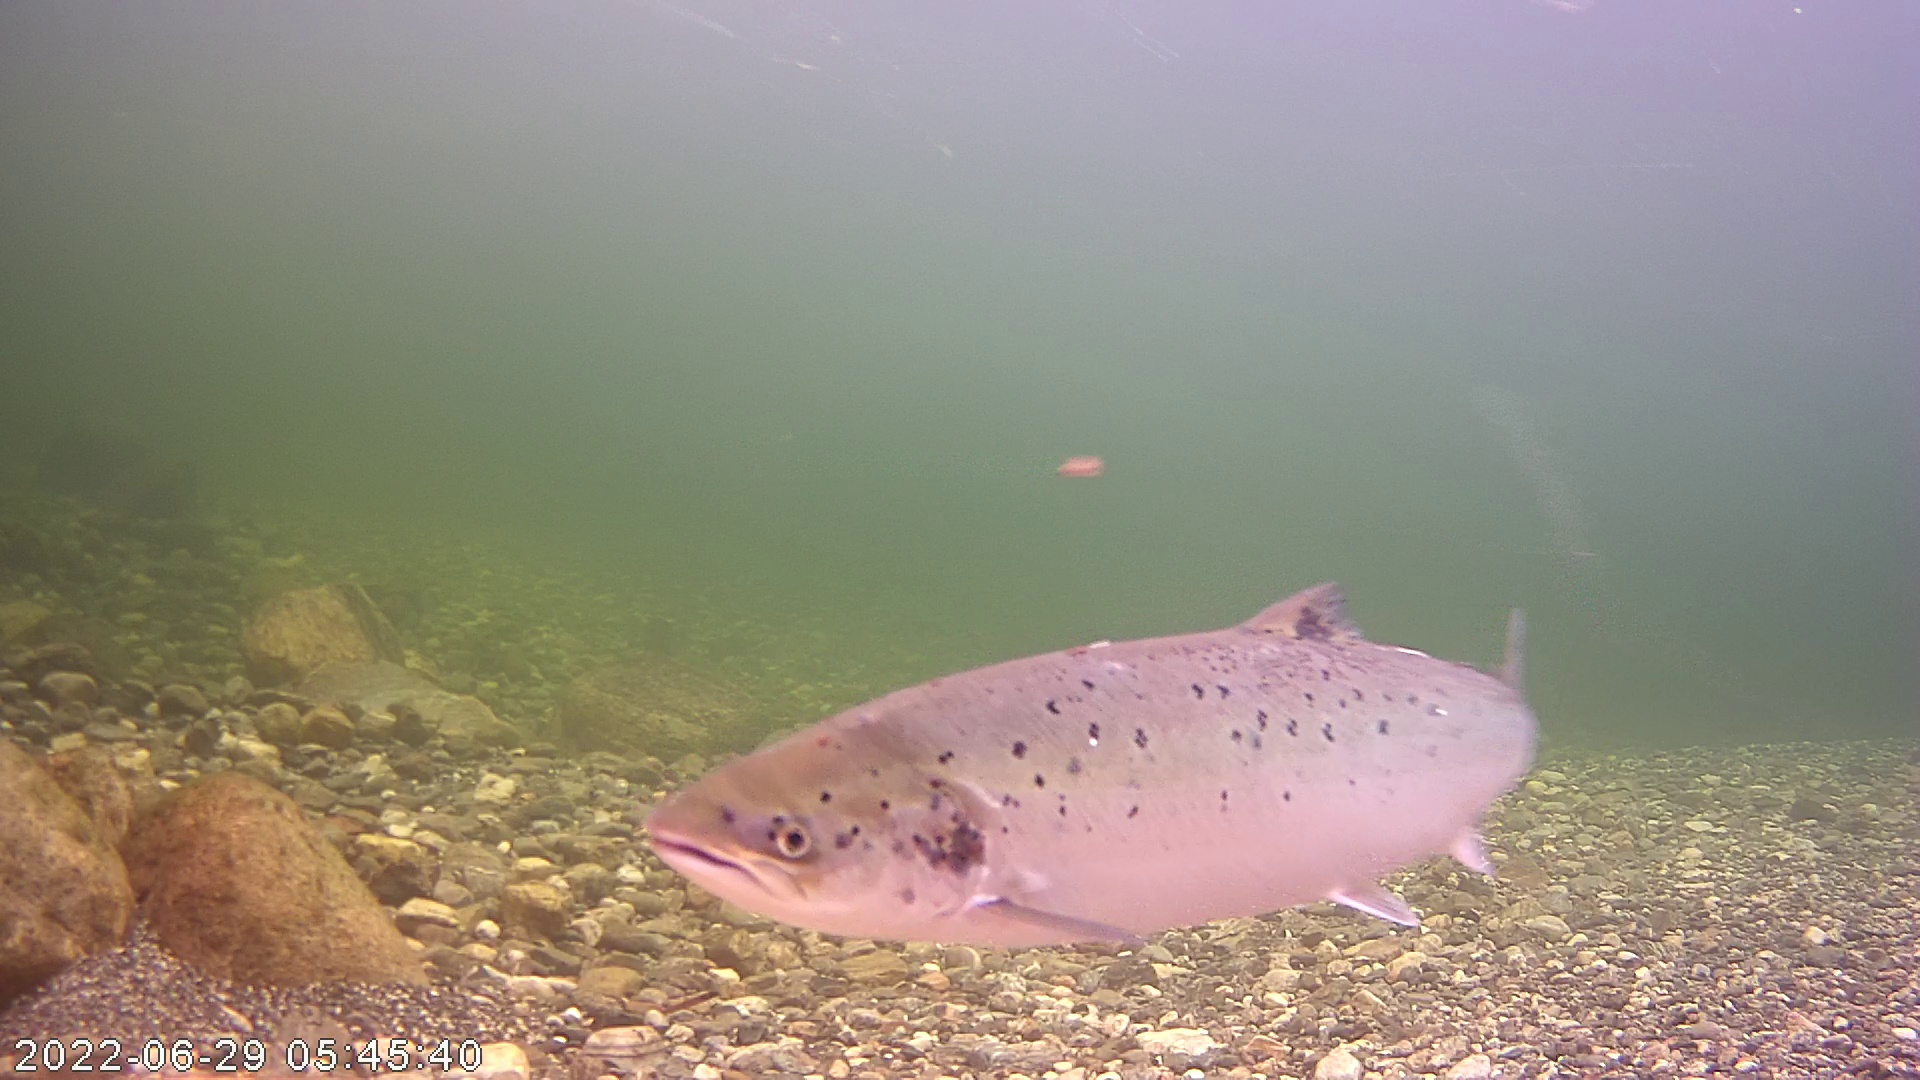salmon: (655, 504, 1553, 967)
